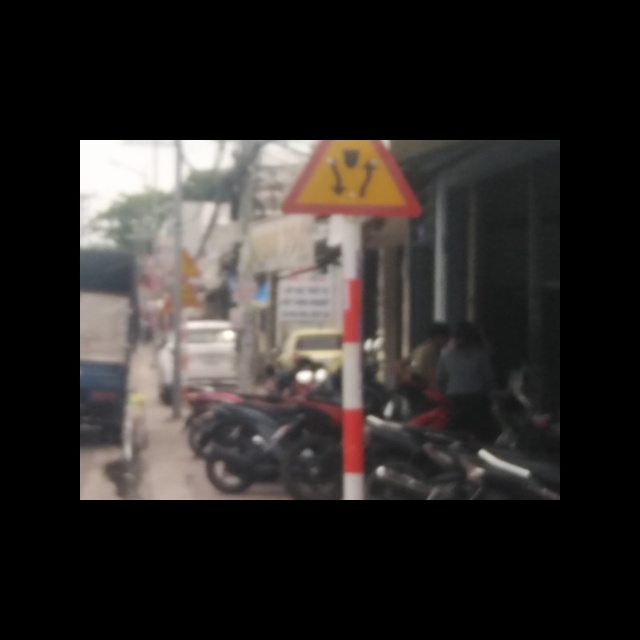Đường đôi: (282, 140, 424, 218)
